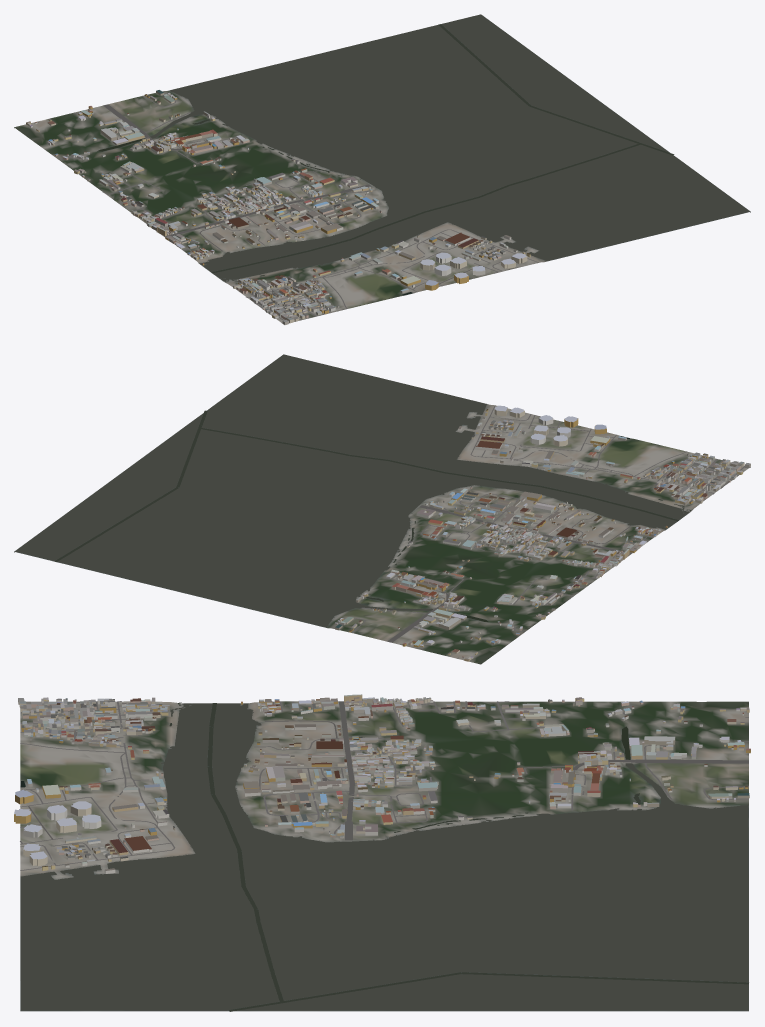
3 renders of one model, top to bottom at view 1: azimuth 30°, elevation 25°; view 2: azimuth 150°, elevation 25°; view 3: azimuth 270°, elevation 25°, orthographic. The views are drawn at different scales.
Parts seen in each view (by area): view 1: water, ground, buildings, roads; view 2: water, ground, buildings, roads; view 3: water, ground, buildings, roads.
Part boxes in pixels (bbox=[...]): water: bbox=[97, 14, 749, 295]; ground: bbox=[14, 19, 750, 322]; buildings: bbox=[26, 90, 530, 324]; roads: bbox=[37, 94, 538, 323]; water: bbox=[15, 354, 690, 627]; ground: bbox=[14, 355, 750, 664]; buildings: bbox=[335, 405, 750, 661]; roads: bbox=[334, 405, 748, 658]; water: bbox=[20, 702, 748, 1011]; ground: bbox=[20, 701, 748, 1011]; buildings: bbox=[14, 694, 750, 873]; roads: bbox=[20, 701, 748, 870].
Size of the model in its own units: 1411 by 21.72 by 1416.
